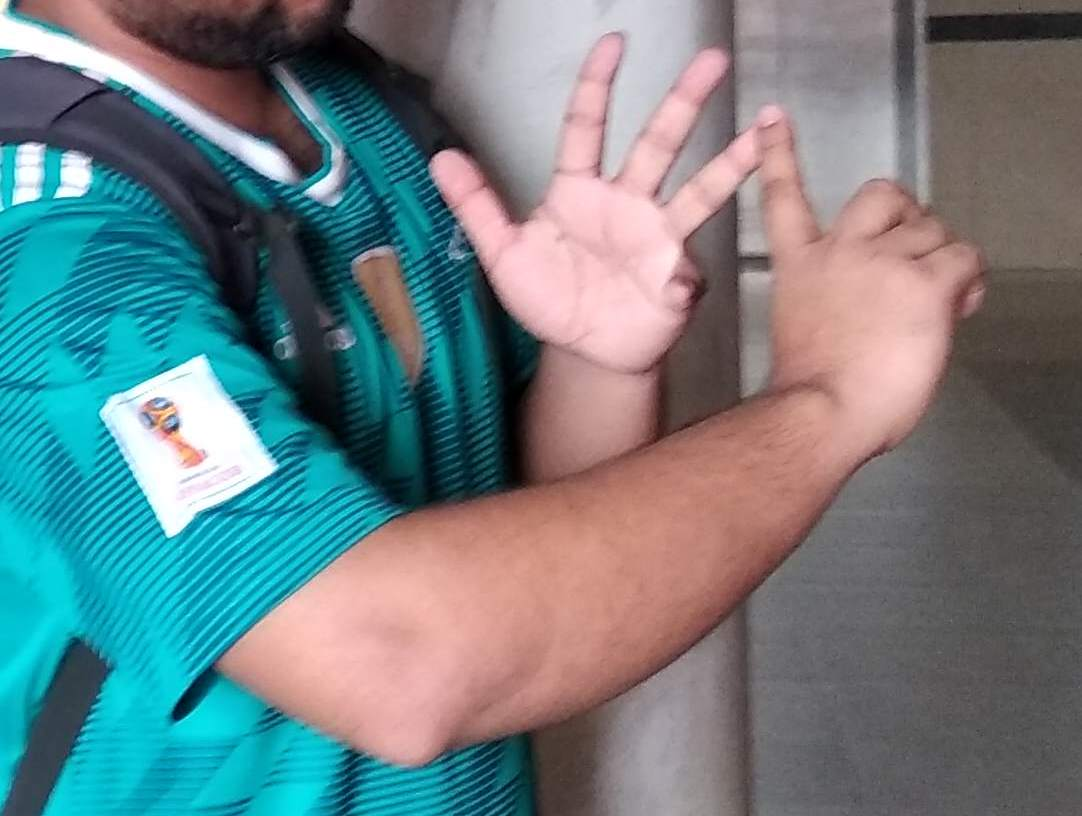e: (550, 14, 950, 309)
